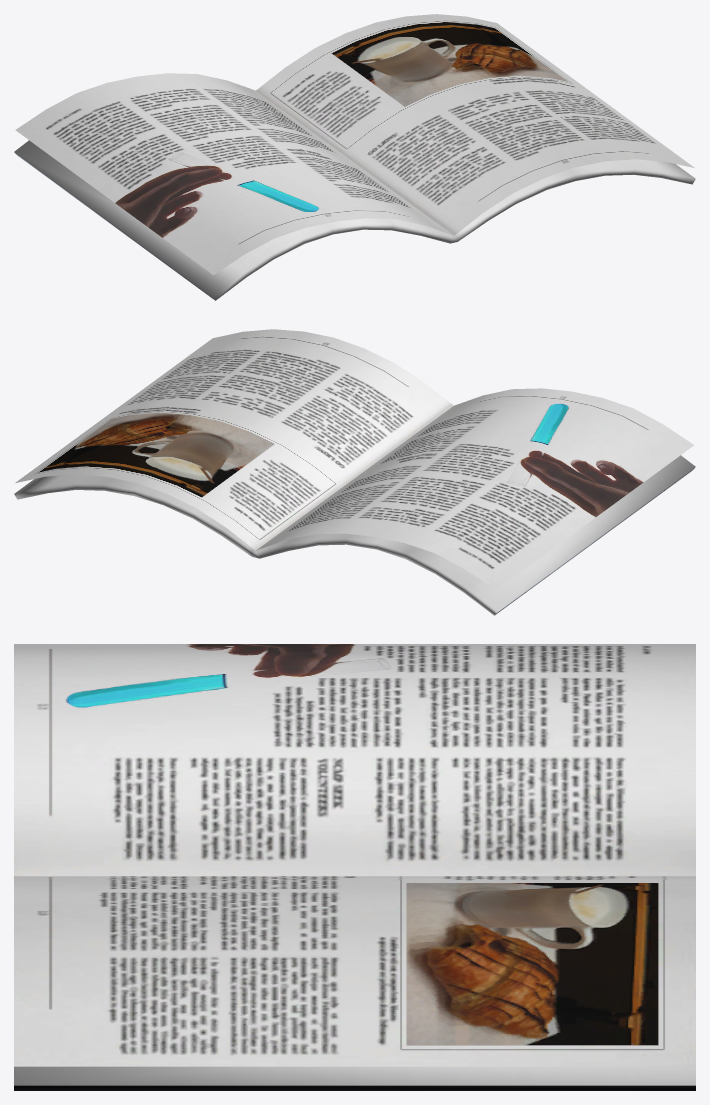
Rendered from magazine_uni_open.dae.
3 views of the same model, one above another, from view 1: azimuth 30°, elevation 25°; view 2: azimuth 150°, elevation 25°; view 3: azimuth 270°, elevation 25° (orthographic). The views are drawn at different scales.
Parts seen in each view (by area): view 1: magazine_tech_open; view 2: magazine_tech_open; view 3: magazine_tech_open.
Boxes of the visible parts, x1,y1,x2,y2 form: magazine_tech_open: (14,14,695,300); magazine_tech_open: (14,329,695,615); magazine_tech_open: (14,644,695,1090).
Bounding box in the file's own units: 39.45 × 3.98 × 28.
